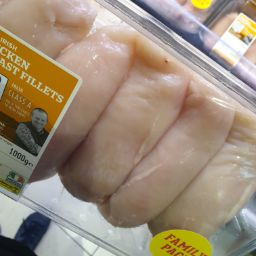Chicken breast: (6, 3, 256, 229), (103, 25, 169, 238), (182, 73, 238, 235)
